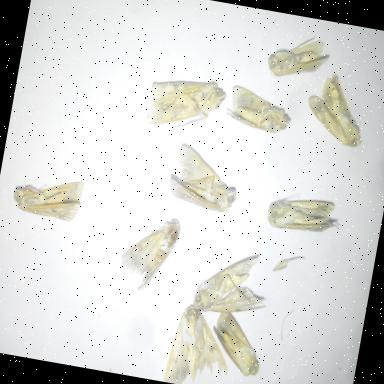abw: (187, 240, 278, 329), (297, 64, 377, 154), (140, 65, 232, 142), (160, 298, 242, 384), (112, 206, 186, 300), (163, 140, 246, 218), (260, 184, 348, 246), (204, 304, 272, 380), (8, 166, 88, 229), (264, 24, 338, 92), (222, 80, 298, 144)
